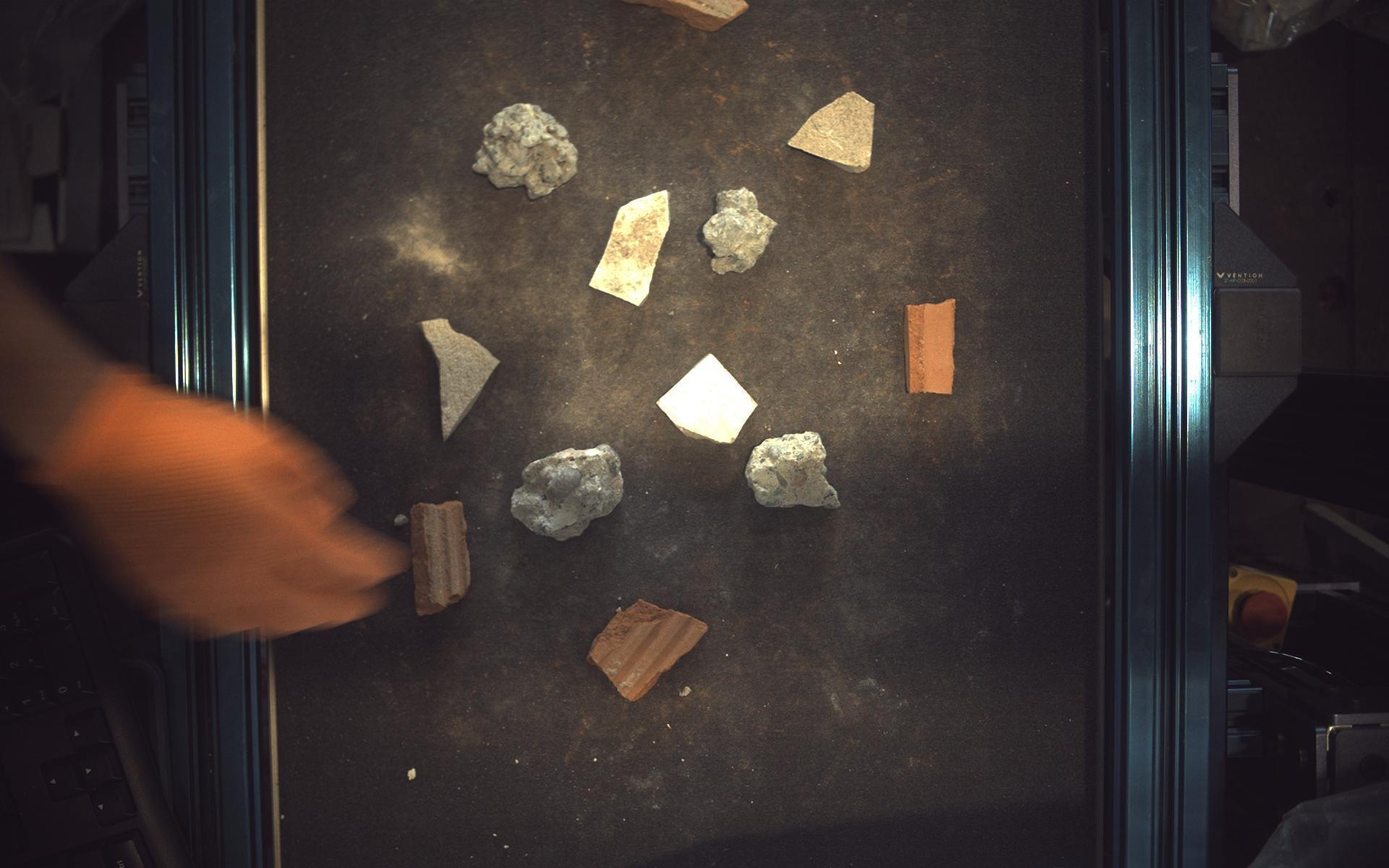brick: (588, 600, 709, 702), (411, 501, 470, 616), (907, 298, 958, 394), (628, 1, 749, 30)
concrete: (512, 445, 624, 542), (473, 102, 578, 199), (747, 431, 841, 509), (703, 187, 778, 273)
tile: (420, 318, 500, 440), (590, 190, 671, 305), (658, 354, 759, 443), (789, 90, 876, 171)
